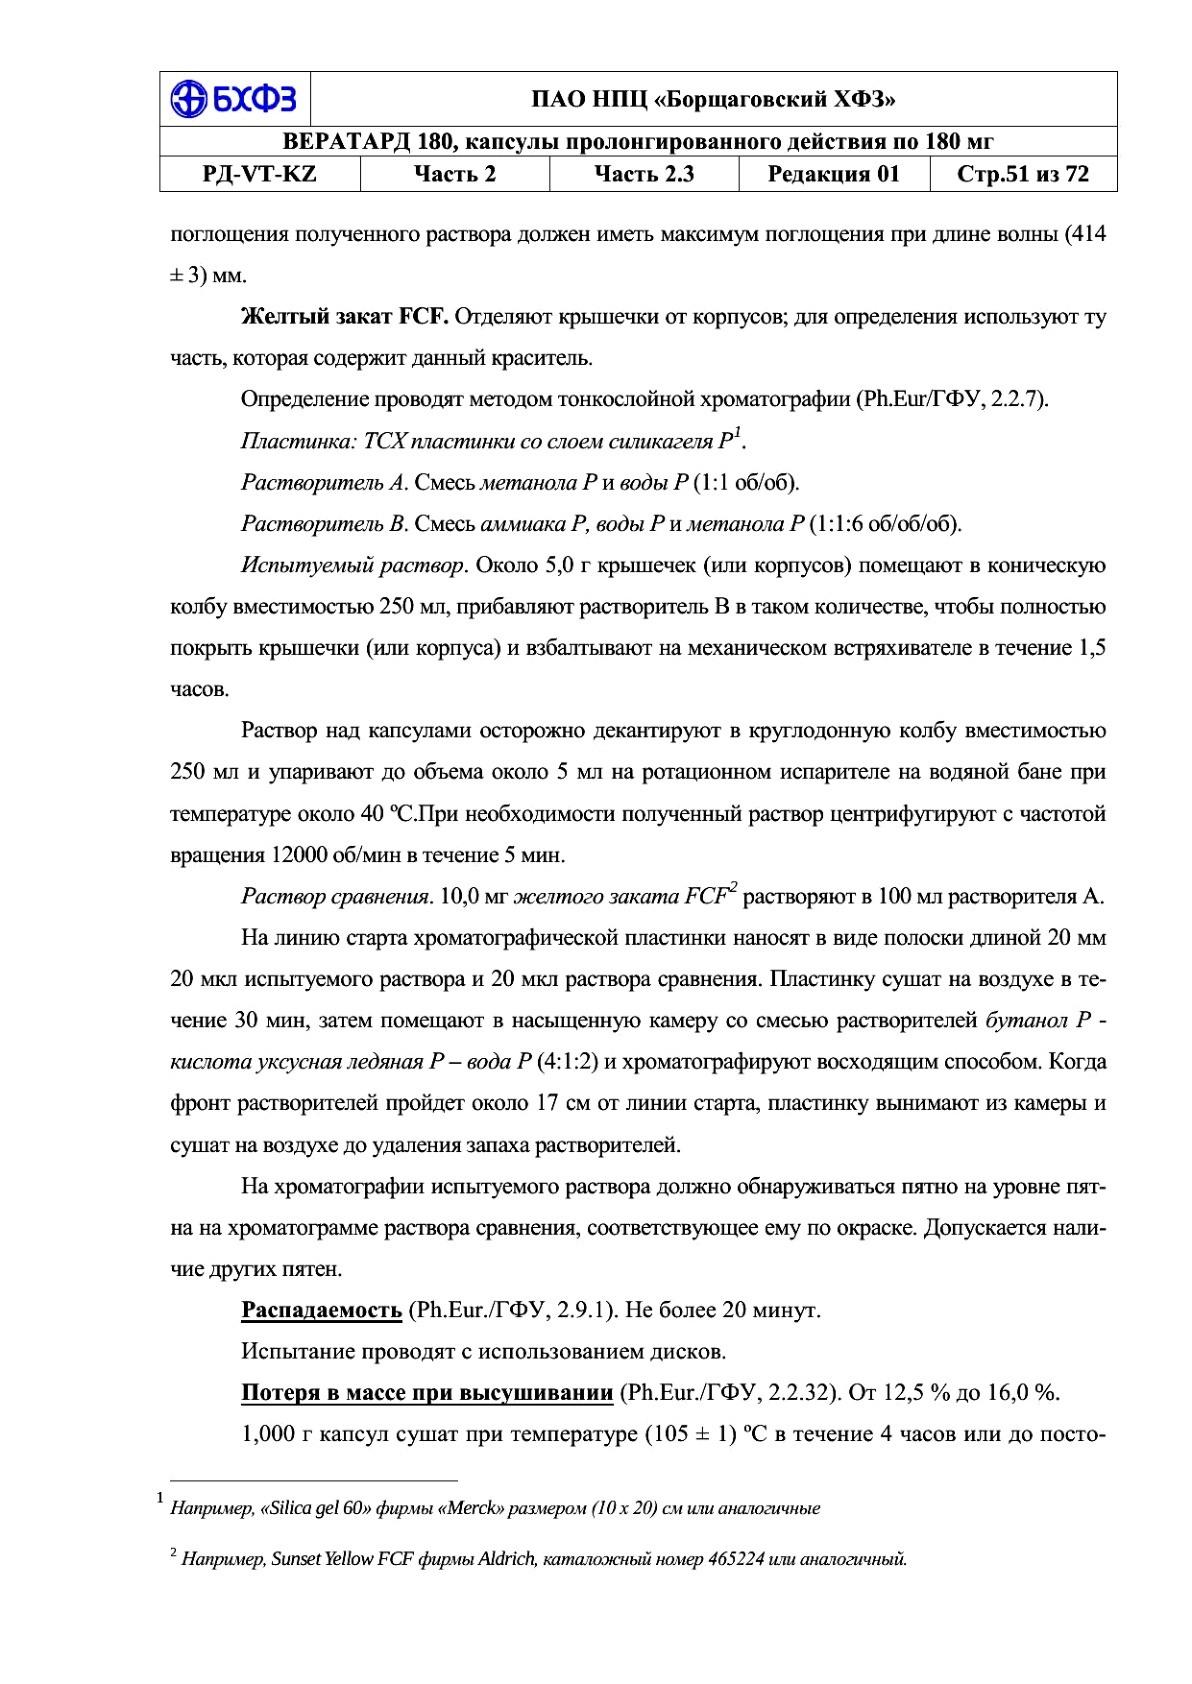merged_cells: (157, 70, 1120, 193)
